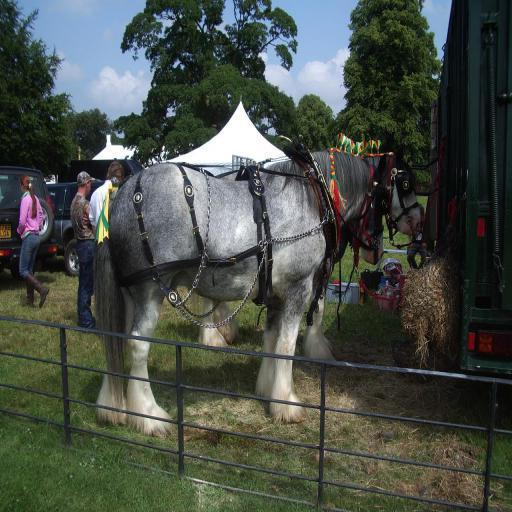Horse: (94, 154, 388, 437), (184, 145, 422, 367)
